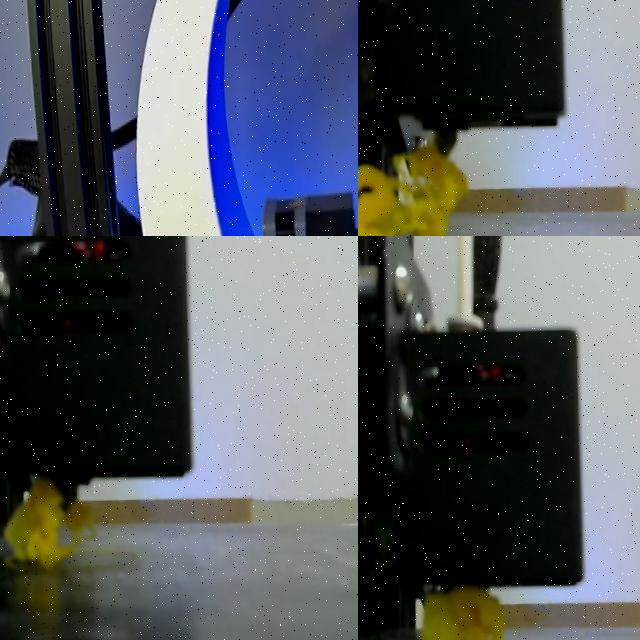spaghetti: (358, 143, 467, 236), (3, 478, 94, 568), (423, 586, 504, 640)
